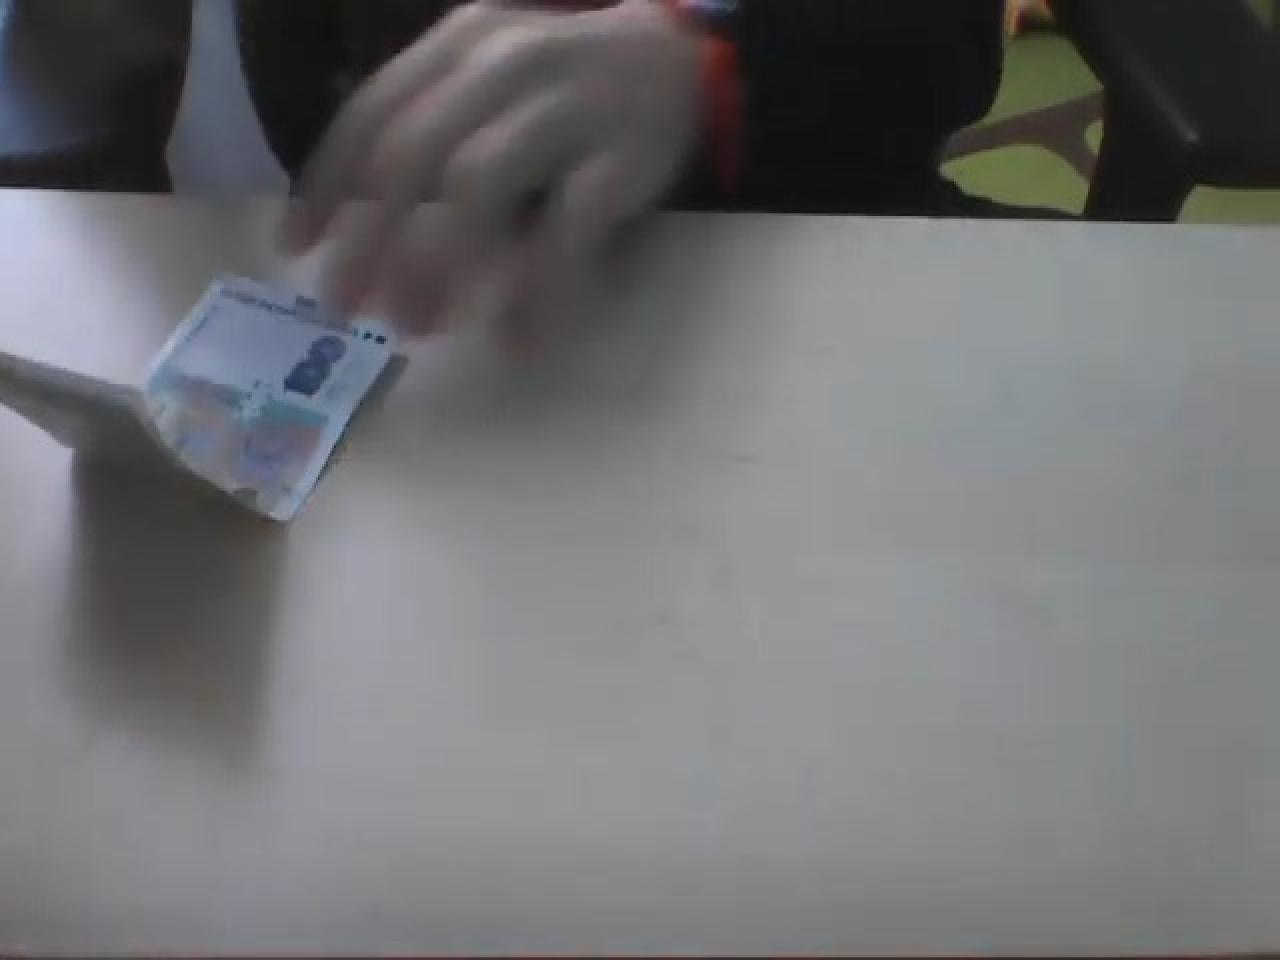100leva: (140, 269, 404, 525)
